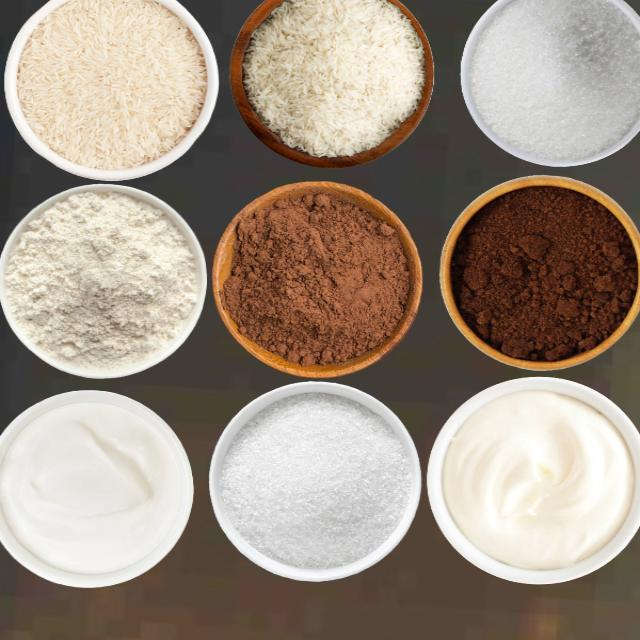Cocoa: (221, 189, 410, 367)
Coffee: (449, 182, 637, 363)
Flour: (2, 189, 197, 371)
Sugar: (218, 392, 412, 569), (467, 0, 639, 162)
